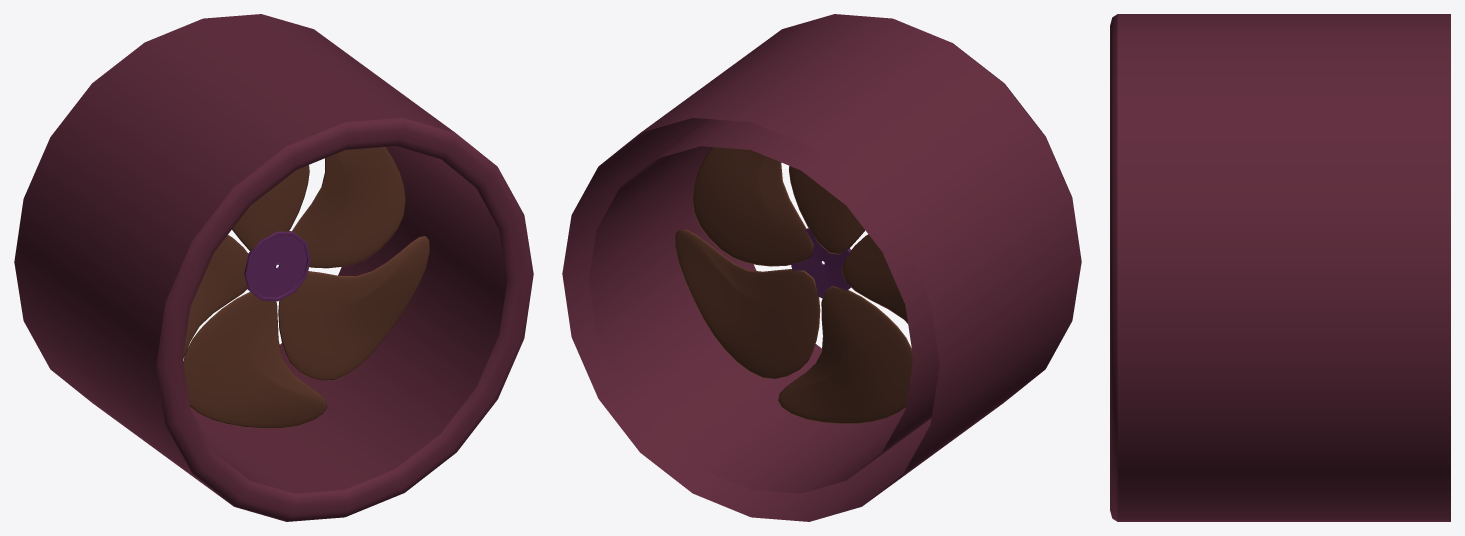
File: SM_Aeration.fbx
3 renders of one model, left to right at view 1: azimuth 30°, elevation 25°; view 2: azimuth 150°, elevation 25°; view 3: azimuth 270°, elevation 25°, orthographic. The views are drawn at different scales.
Visible parts, largest first — view 1: pCube32; view 2: pCube32; view 3: pCube32.
Part boxes in pixels (x1=…): pCube32: x1=14, y1=14, x2=533, y2=521; pCube32: x1=562, y1=14, x2=1081, y2=521; pCube32: x1=1110, y1=14, x2=1450, y2=521.
Size of the model in its own units: 37.37 by 37.37 by 24.89.
